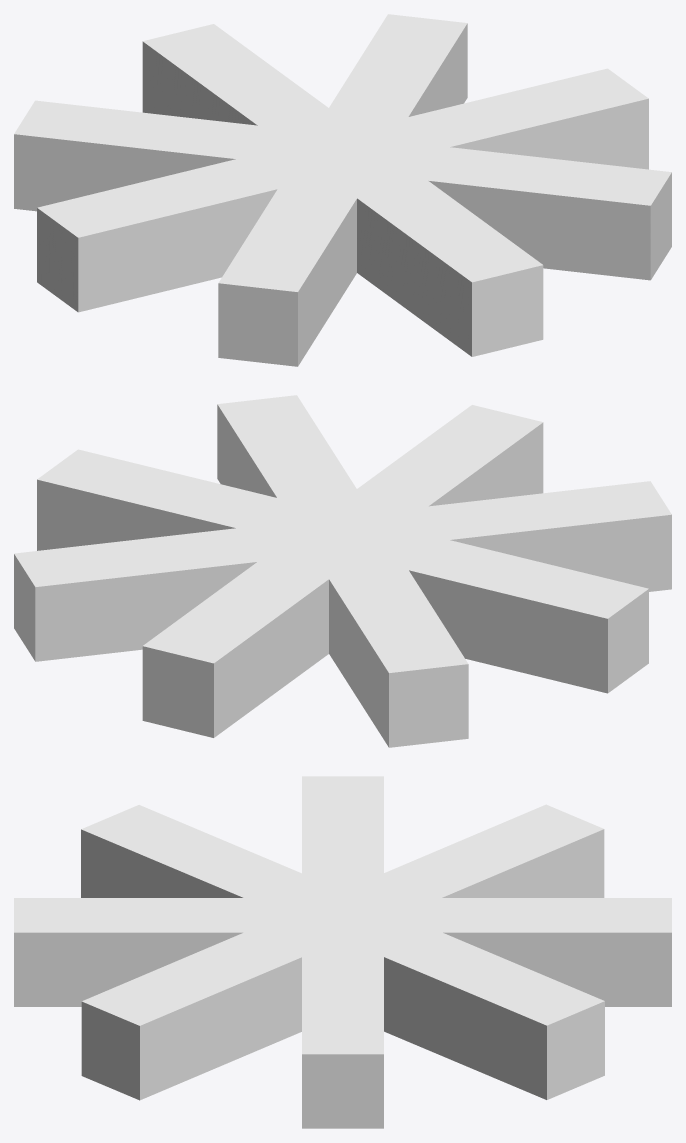
Rendered from SpinBlade.obj.
The picture shows the model from 3 angles, top to bottom: view 1: azimuth 30°, elevation 25°; view 2: azimuth 150°, elevation 25°; view 3: azimuth 270°, elevation 25°; orthographic projection.
Visible parts, largest first — view 1: 立方体.002; view 2: 立方体.002; view 3: 立方体.002.
Part boxes in pixels (x1,y1,x2,y2): 立方体.002: [14, 14, 671, 366]; 立方体.002: [14, 395, 671, 747]; 立方体.002: [14, 776, 671, 1128].
Bounding box in the file's own units: 1.6 × 0.2 × 1.6.
